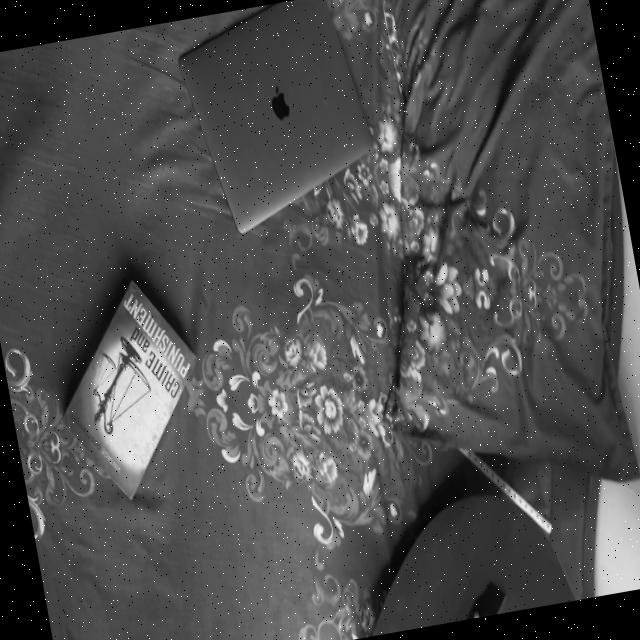book: (33, 253, 229, 532)
guitar: (335, 470, 627, 638)
laptop: (172, 0, 390, 254)
